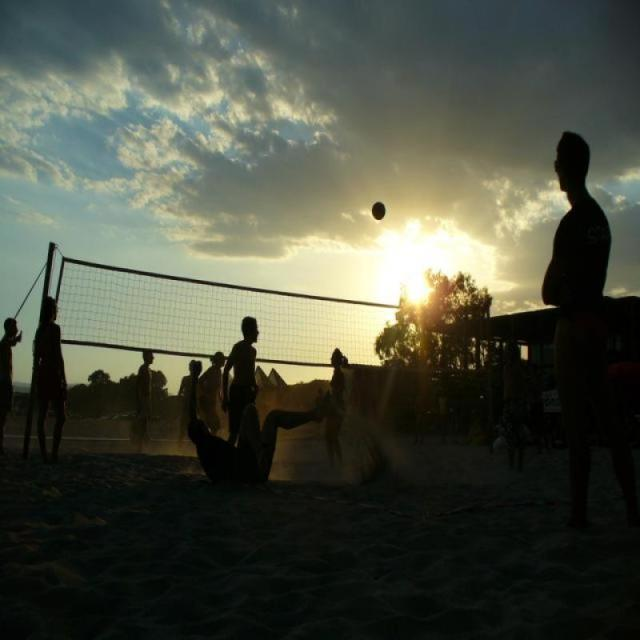volleyball: (370, 199, 386, 218)
